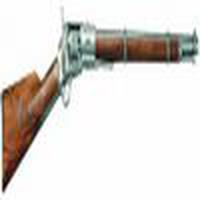gun: (1, 24, 199, 180)
